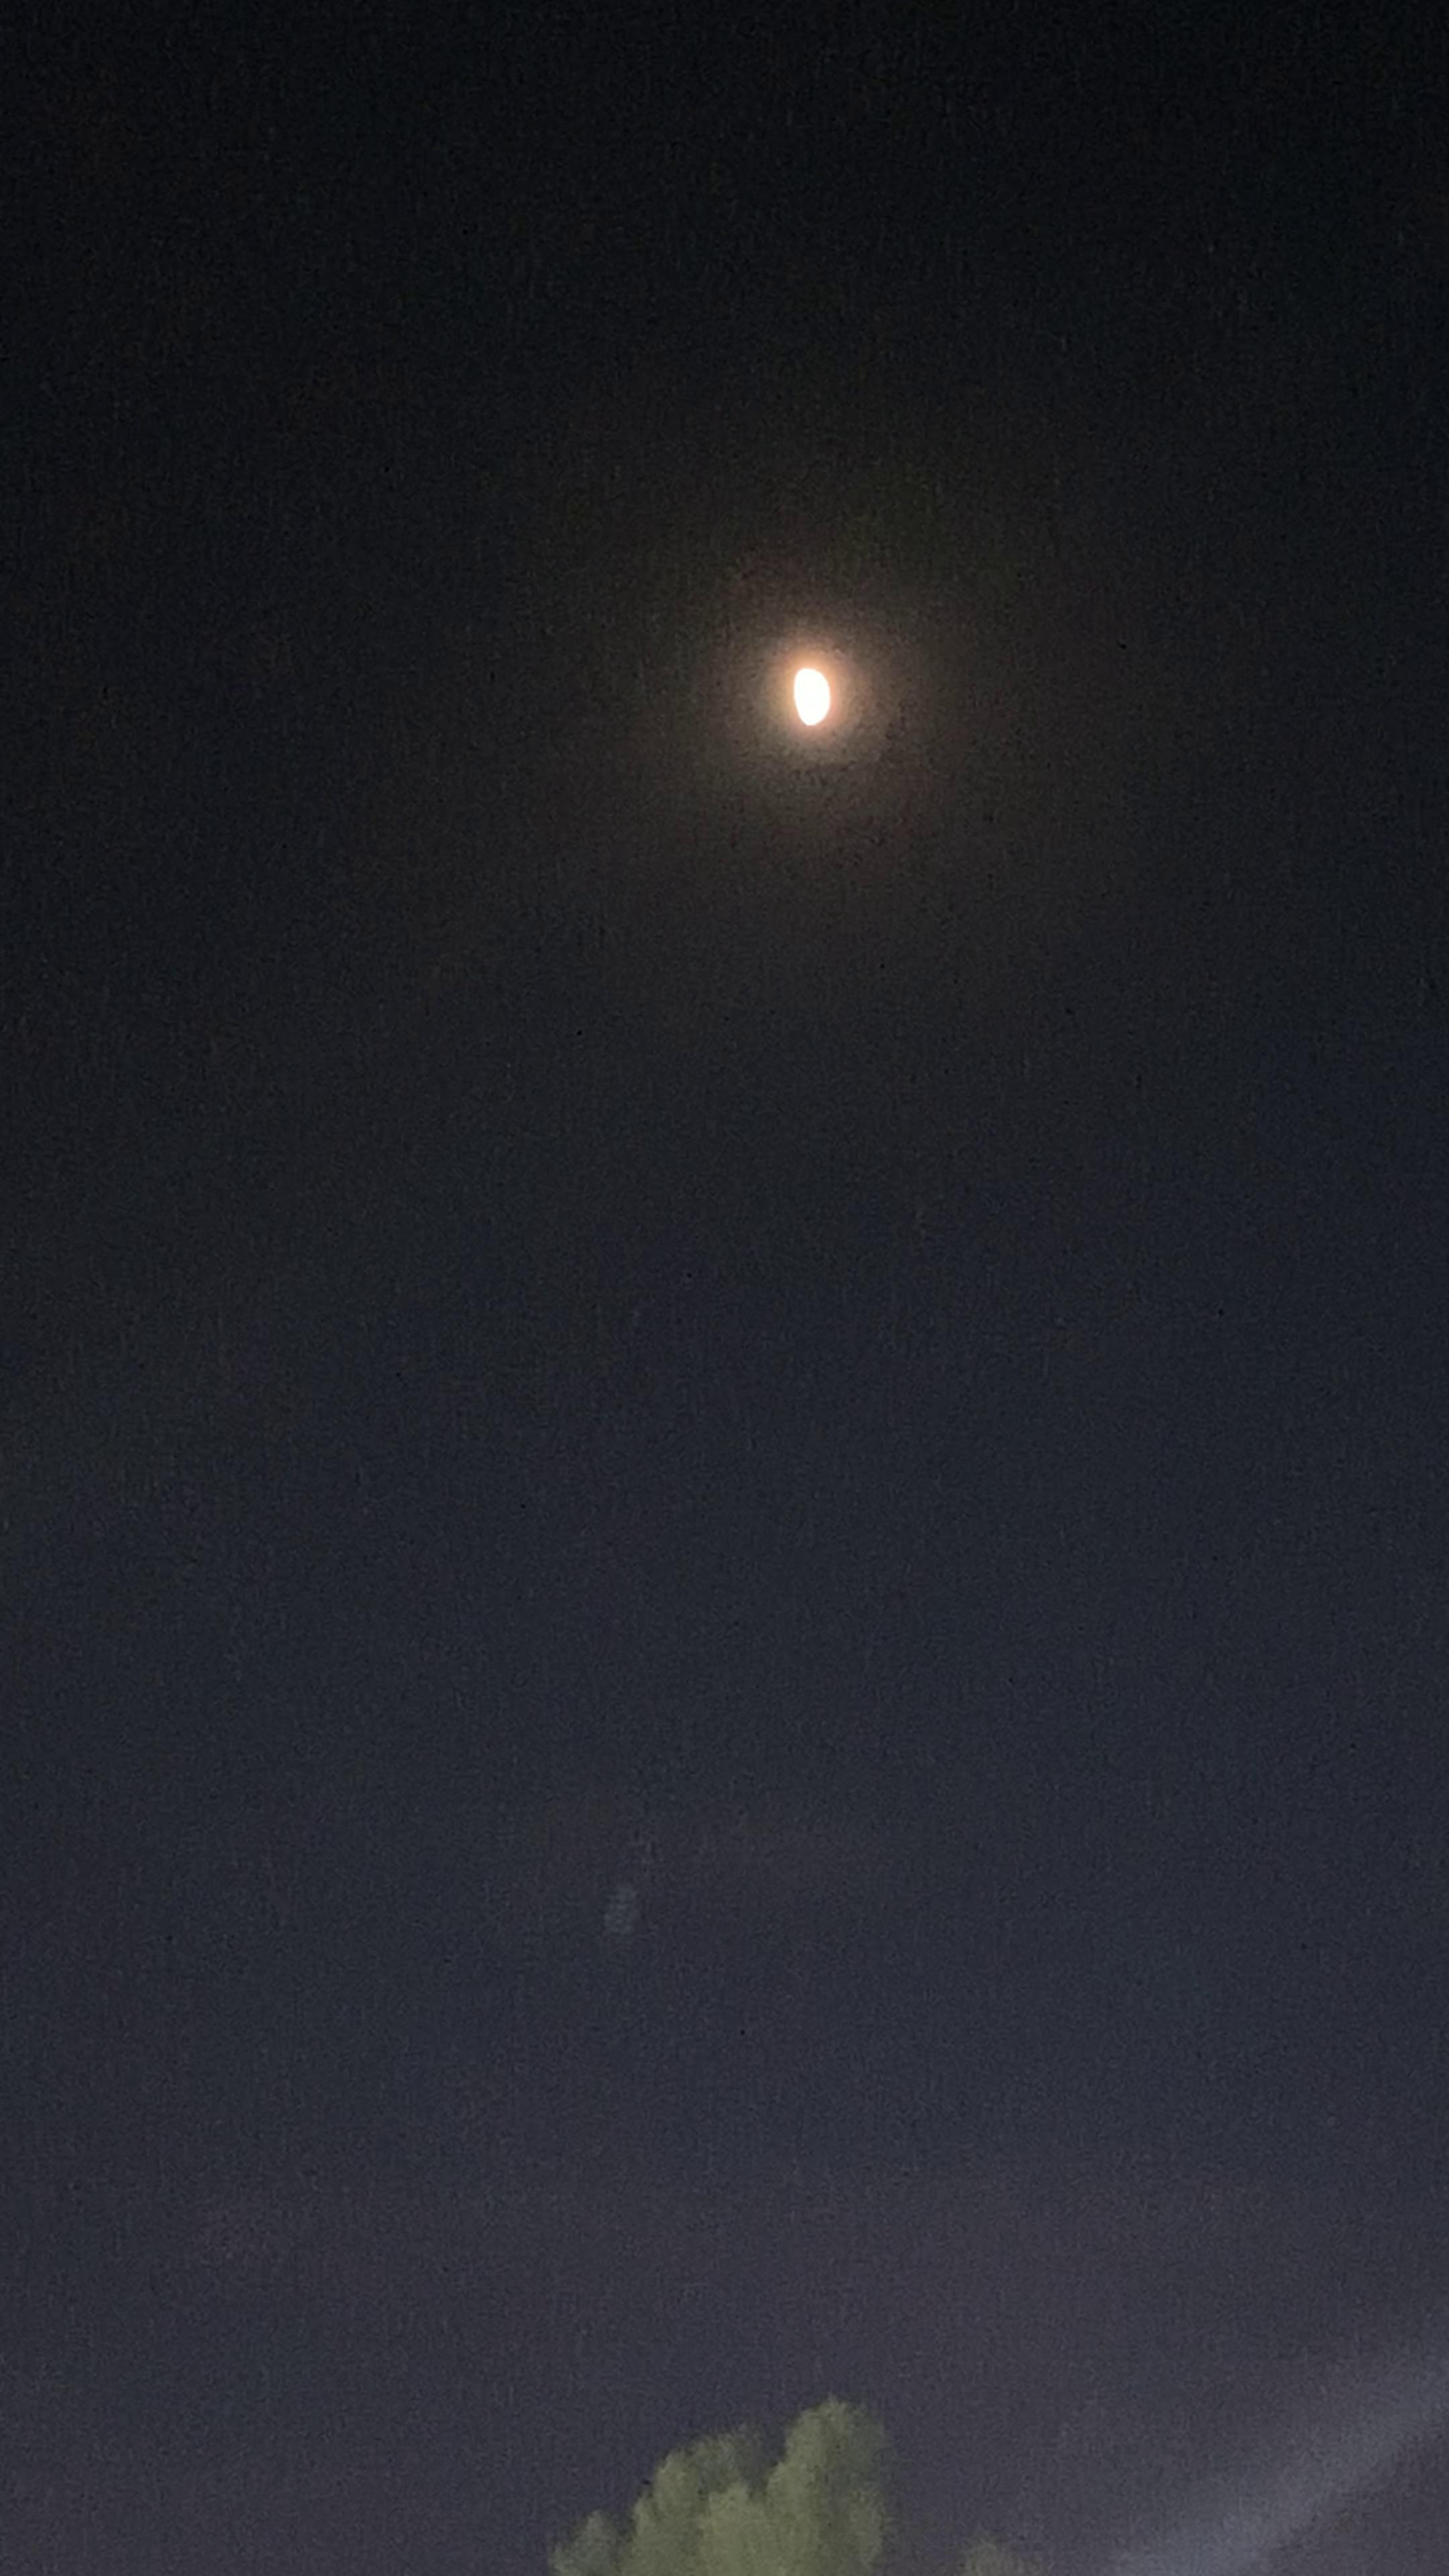moon: (725, 630, 886, 777)
